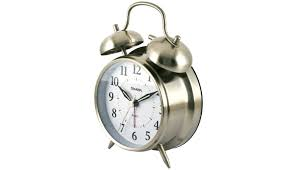alarm_clock: (100, 2, 203, 169), (100, 10, 203, 169)
